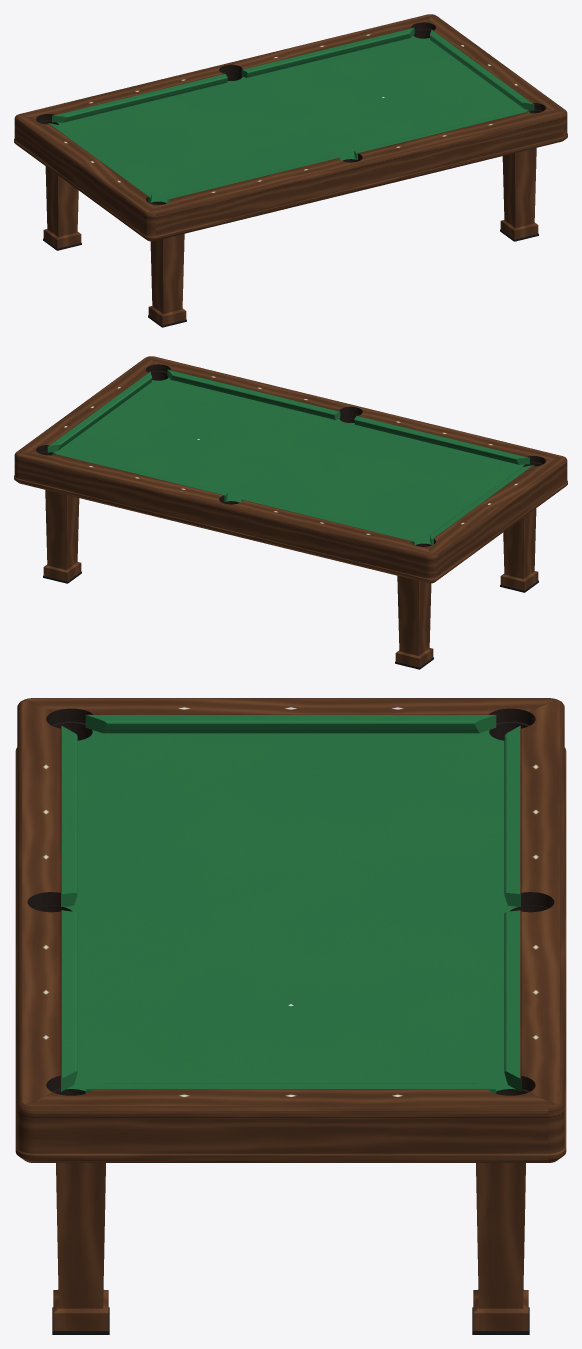
The model's file is table.obj.
3 views of the same model, one above another, from view 1: azimuth 30°, elevation 25°; view 2: azimuth 150°, elevation 25°; view 3: azimuth 270°, elevation 25° (orthographic). The views are drawn at different scales.
Bounding box in the file's own units: 2.91 × 0.8175 × 1.64.
Materials: 1 (1 with a texture image).
